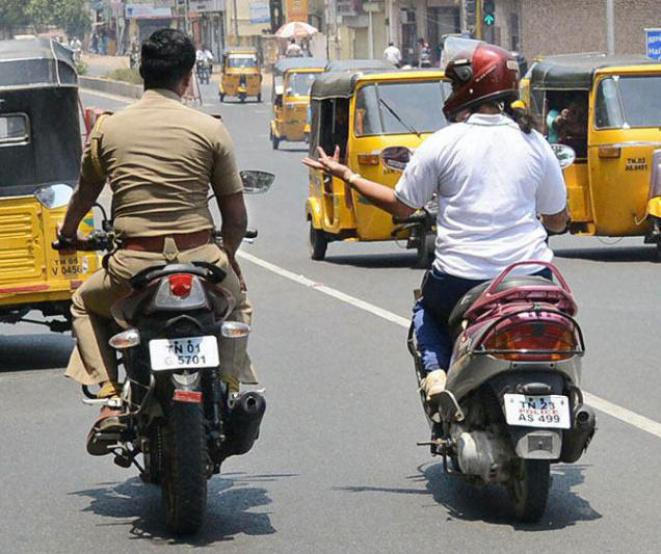helmet: (439, 36, 520, 122)
